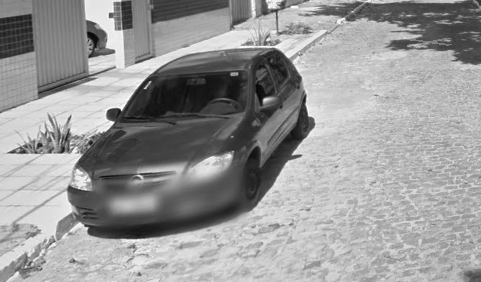car: (64, 45, 319, 240)
